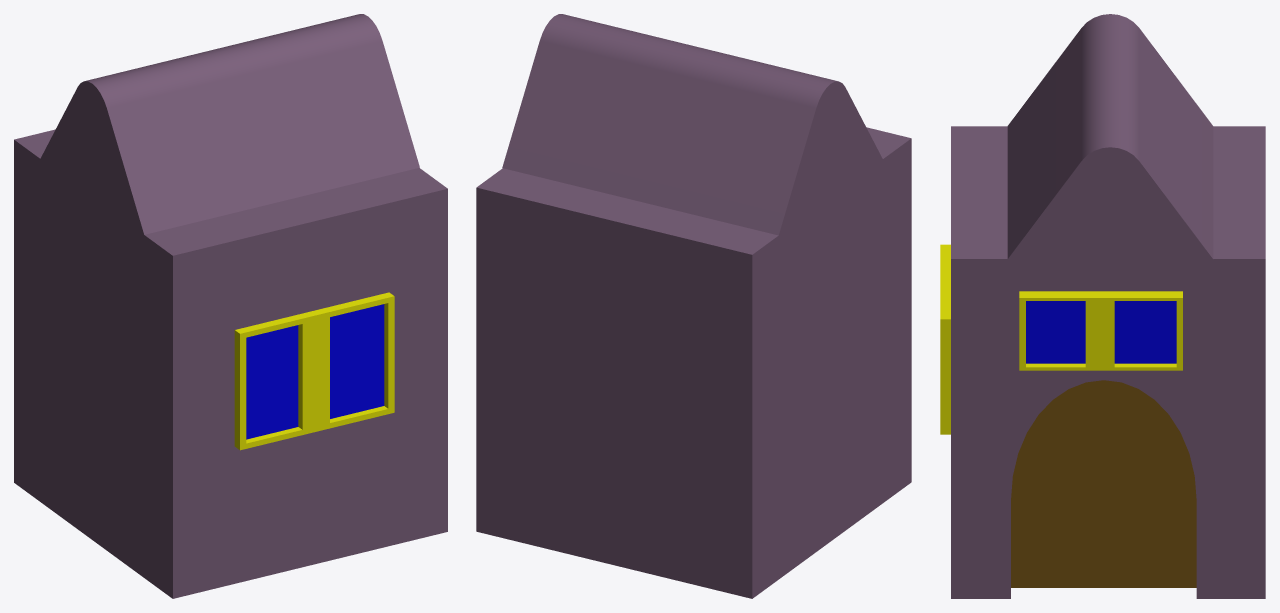
3 renders of one model, left to right at view 1: azimuth 30°, elevation 25°; view 2: azimuth 150°, elevation 25°; view 3: azimuth 270°, elevation 25°, orthographic.
Parts seen in each view (by area): view 1: polySurface25, polySurface27, pCube63; view 2: polySurface25, polySurface27; view 3: polySurface25, polySurface27, pCube64, pCube63.
Boxes of the visible parts, box(x1,y1,x2,y2) form: polySurface25: box(14, 129, 447, 598); polySurface27: box(40, 14, 419, 234); pCube63: box(234, 292, 394, 450); polySurface25: box(476, 127, 911, 598); polySurface27: box(502, 14, 882, 235); polySurface25: box(951, 126, 1265, 598); polySurface27: box(1007, 14, 1213, 259); pCube64: box(1019, 291, 1182, 370); pCube63: box(940, 244, 950, 434).
Size of the model in its own units: 17.18 by 25.99 by 16.94.
